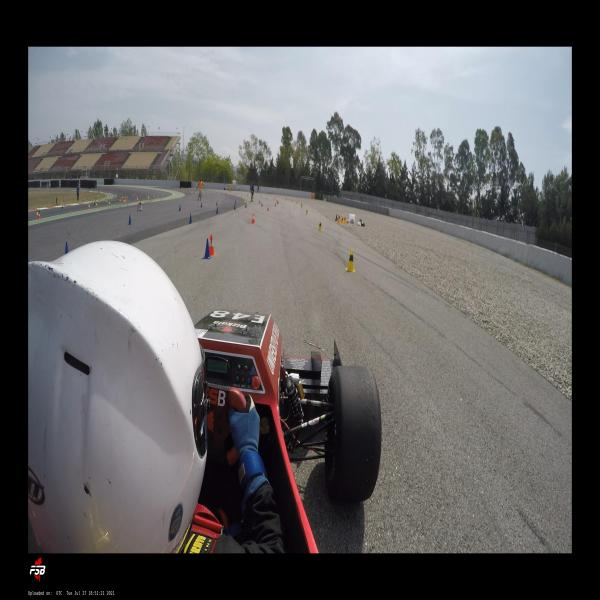orange_cone: (208, 234, 215, 257), (251, 213, 255, 223), (37, 212, 41, 220), (266, 204, 270, 210), (88, 203, 91, 210), (346, 217, 348, 224), (126, 195, 128, 201), (136, 196, 138, 202), (123, 198, 125, 204), (148, 195, 150, 201), (153, 194, 155, 199), (274, 202, 276, 206)
unknown_cone: (202, 238, 212, 259), (65, 241, 69, 255), (128, 214, 132, 225), (189, 213, 192, 224), (216, 206, 219, 214), (335, 213, 338, 221), (233, 204, 236, 210), (179, 204, 181, 212), (216, 201, 218, 208), (200, 201, 202, 208), (245, 202, 247, 209), (261, 202, 263, 206), (235, 200, 236, 205)
yellow_cone: (346, 250, 355, 272), (318, 220, 322, 231), (337, 215, 341, 223), (305, 208, 308, 215), (340, 217, 343, 224), (95, 200, 98, 206), (36, 209, 39, 214), (108, 199, 111, 204), (344, 217, 346, 224), (120, 196, 122, 202), (105, 198, 108, 202), (300, 203, 302, 208), (157, 194, 158, 199)
